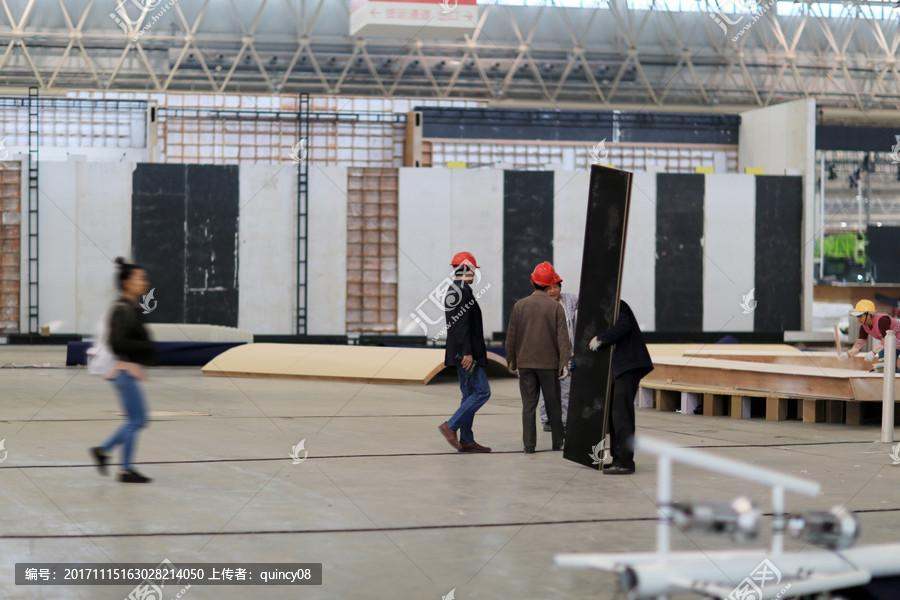helmet: (530, 261, 558, 288), (450, 251, 481, 272), (852, 299, 879, 316)
